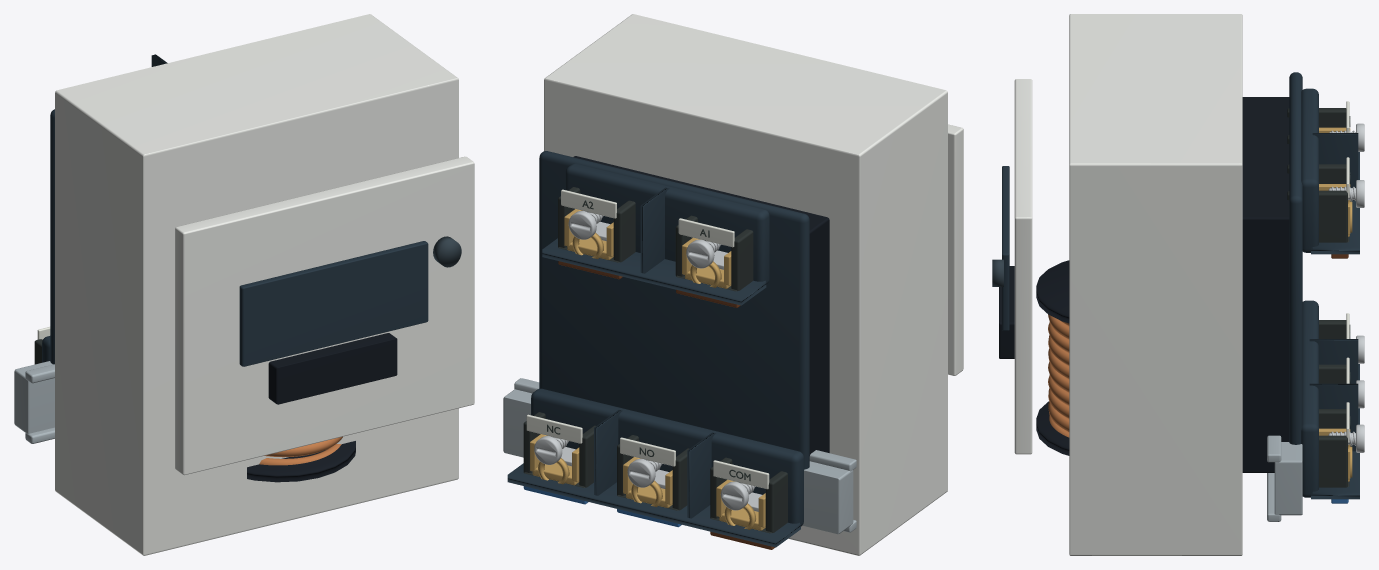
File: relay_default.glb
3 renders of one model, left to right at view 1: azimuth 30°, elevation 25°; view 2: azimuth 150°, elevation 25°; view 3: azimuth 270°, elevation 25°, orthographic. The views are drawn at different scales.
Parts seen in each view (by area): view 1: part:body, part:cover, part:mounting · Original 2a8198d3, part:coil · Original 3ff2d46d, part:terminals · Original a463fd81, part:coil, part:body.001; view 2: part:body, part:terminals · Original a463fd81, part:mounting · Original 2a8198d3, part:cover, detail:terminal-clamp:A1 · Detail moulded engineering polyme, detail:terminal-clamp:COM · Detail moulded engineering polym, detail:terminal-clamp:A2 · Detail moulded engineering polyme, detail:terminal-clamp:NC · Detail moulded engineering polyme, detail:terminal-clamp:NO · Detail moulded engineering polyme, detail:terminal-clamp:A2 · Detail machined brass, detail:terminal-clamp:COM · Detail machined brass, detail:terminal-clamp:NC · Detail machined brass (+12 smaller); view 3: part:body, part:terminals · Original a463fd81, part:cover, part:mounting · Original 2a8198d3, part:coil · Original 3ff2d46d, part:coil, detail:terminal-clamp:A2 · Detail moulded engineering polyme, detail:terminal-clamp:NC · Detail moulded engineering polyme, detail:terminal-clamp:A1 · Detail moulded engineering polyme, detail:terminal-clamp:NO · Detail moulded engineering polyme, detail:terminal-clamp:COM · Detail moulded engineering polym.
Part boxes in pixels (left/top/right/bottom): part:body: left=55, top=14, right=458, bottom=555; part:cover: left=175, top=156, right=474, bottom=475; part:mounting · Original 2a8198d3: left=14, top=361, right=54, bottom=443; part:coil · Original 3ff2d46d: left=247, top=441, right=355, bottom=482; part:terminals · Original a463fd81: left=42, top=54, right=167, bottom=364; part:coil: left=259, top=436, right=342, bottom=465; part:body.001: left=433, top=236, right=461, bottom=267; part:body: left=544, top=14, right=947, bottom=555; part:terminals · Original a463fd81: left=507, top=151, right=809, bottom=547; part:mounting · Original 2a8198d3: left=503, top=378, right=856, bottom=534; part:cover: left=948, top=124, right=963, bottom=375; detail:terminal-clamp:A1 · Detail moulded engineering polyme: left=675, top=215, right=753, bottom=291; detail:terminal-clamp:COM · Detail moulded engineering polym: left=710, top=457, right=787, bottom=533; detail:terminal-clamp:A2 · Detail moulded engineering polyme: left=558, top=187, right=635, bottom=262; detail:terminal-clamp:NC · Detail moulded engineering polyme: left=523, top=412, right=595, bottom=487; detail:terminal-clamp:NO · Detail moulded engineering polyme: left=617, top=435, right=689, bottom=510; detail:terminal-clamp:A2 · Detail machined brass: left=564, top=209, right=613, bottom=259; detail:terminal-clamp:COM · Detail machined brass: left=716, top=479, right=765, bottom=530; detail:terminal-clamp:NC · Detail machined brass: left=530, top=434, right=579, bottom=485; part:body: left=1069, top=14, right=1289, bottom=555; part:terminals · Original a463fd81: left=1289, top=72, right=1359, bottom=499; part:cover: left=999, top=79, right=1032, bottom=454; part:mounting · Original 2a8198d3: left=1267, top=435, right=1302, bottom=521; part:coil · Original 3ff2d46d: left=1036, top=260, right=1069, bottom=455; part:coil: left=1048, top=314, right=1069, bottom=437; detail:terminal-clamp:A2 · Detail moulded engineering polyme: left=1287, top=164, right=1349, bottom=242; detail:terminal-clamp:NC · Detail moulded engineering polyme: left=1319, top=409, right=1349, bottom=487; detail:terminal-clamp:A1 · Detail moulded engineering polyme: left=1287, top=108, right=1346, bottom=143; detail:terminal-clamp:NO · Detail moulded engineering polyme: left=1319, top=364, right=1346, bottom=383; detail:terminal-clamp:COM · Detail moulded engineering polym: left=1319, top=320, right=1346, bottom=338.
Size of the model in its own units: 0.7023 by 0.8007 by 0.6881.
